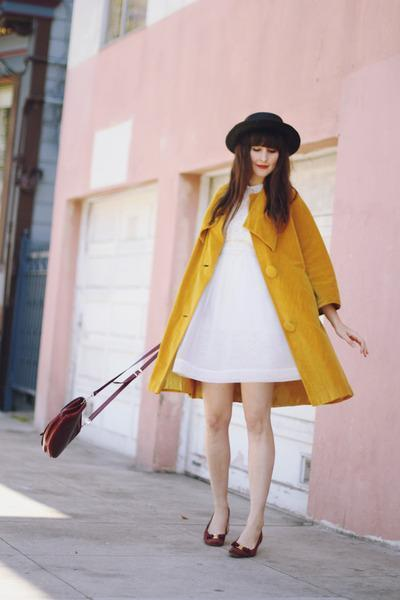bag: (40, 344, 159, 457)
dress: (173, 180, 299, 382)
hat: (228, 112, 299, 155)
jacket: (149, 187, 352, 406)
shoe: (204, 519, 261, 558)
